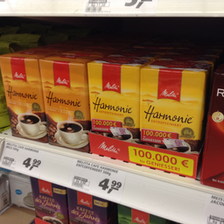coffee: (140, 58, 210, 151), (39, 53, 95, 152), (86, 56, 141, 142), (1, 50, 47, 142)
